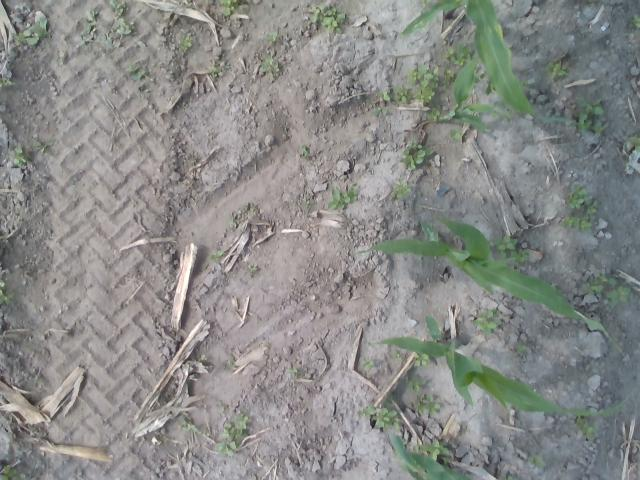Maize: (355, 217, 624, 355), (368, 312, 632, 420), (396, 0, 574, 127), (438, 55, 511, 132), (384, 430, 474, 480)
Weeds: (216, 412, 248, 455), (10, 15, 51, 48), (572, 98, 606, 136), (407, 64, 439, 103), (492, 235, 530, 266), (309, 3, 346, 34), (398, 140, 434, 170), (472, 307, 502, 335), (442, 42, 474, 68), (79, 9, 98, 52), (328, 186, 358, 210), (606, 278, 631, 306), (127, 65, 151, 93), (414, 394, 440, 417), (565, 184, 588, 210), (421, 438, 448, 460), (372, 408, 401, 428), (582, 272, 606, 296), (560, 214, 592, 232), (544, 57, 568, 80), (576, 416, 596, 440), (260, 55, 280, 78), (402, 374, 427, 392), (390, 178, 410, 199), (32, 136, 54, 154), (0, 280, 15, 306), (392, 86, 412, 103), (0, 464, 21, 480), (492, 102, 511, 119), (12, 146, 28, 166), (220, 0, 239, 16), (106, 0, 126, 15), (412, 350, 430, 366), (580, 198, 598, 214), (116, 16, 132, 34), (527, 454, 547, 468), (444, 66, 456, 89), (357, 405, 376, 419), (180, 418, 198, 432), (426, 106, 440, 122), (628, 134, 640, 152), (178, 35, 192, 50), (472, 70, 488, 83), (361, 357, 375, 370), (377, 89, 391, 102), (485, 80, 497, 95), (383, 394, 397, 406), (516, 340, 528, 354), (448, 128, 462, 140), (0, 77, 15, 88), (207, 65, 220, 77), (266, 30, 279, 42), (629, 14, 640, 28), (286, 367, 302, 376), (372, 107, 388, 116), (210, 249, 223, 260), (300, 145, 310, 157), (518, 78, 530, 88), (392, 350, 402, 361), (400, 436, 408, 448), (505, 474, 520, 480), (228, 217, 236, 227), (442, 456, 452, 464), (248, 262, 258, 270), (302, 199, 310, 208), (412, 445, 420, 454), (420, 0, 432, 6), (160, 436, 168, 443), (202, 429, 210, 436), (250, 205, 256, 212), (246, 0, 250, 2)
